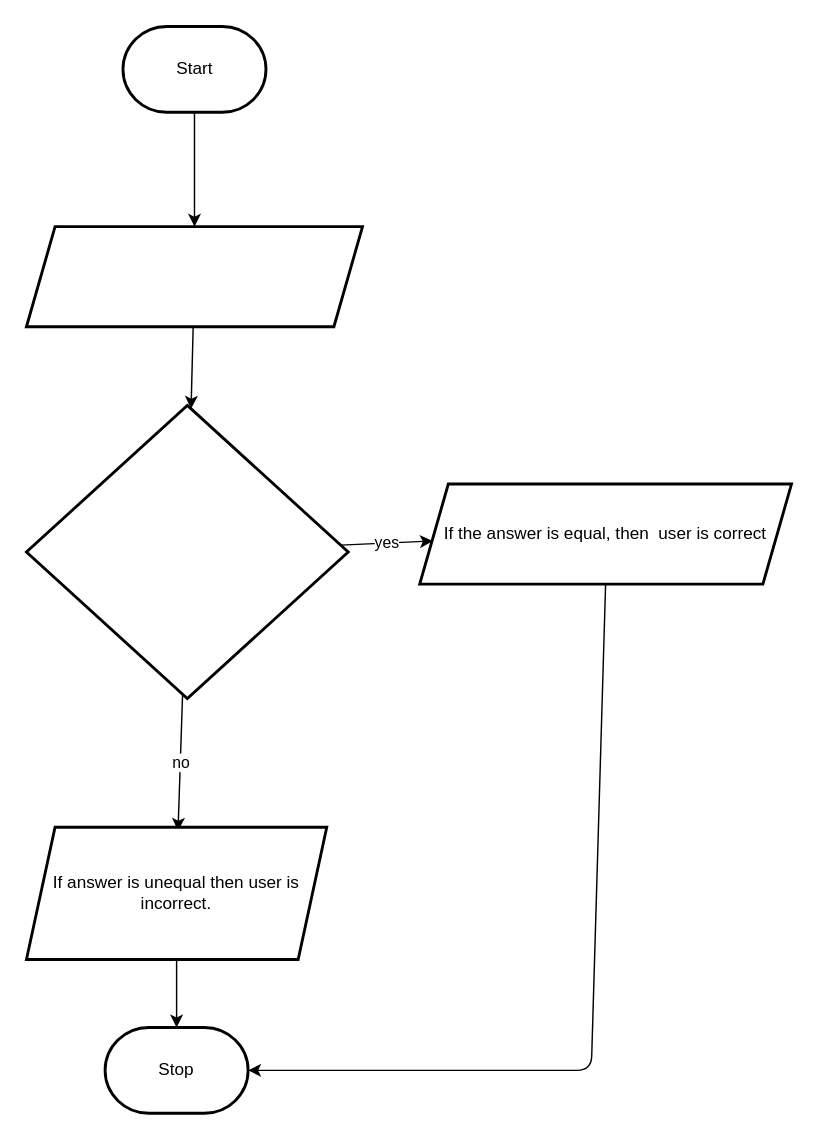
Image size: 817x1138. Some labels were removed from this diagram. The shapes that lost their labels are listed below. From the top down, each one's centre as x and y in pixels, then its label:
point 193,276: Generate random number from 1-6
point 186,551: If user's number is equal to one you chose
